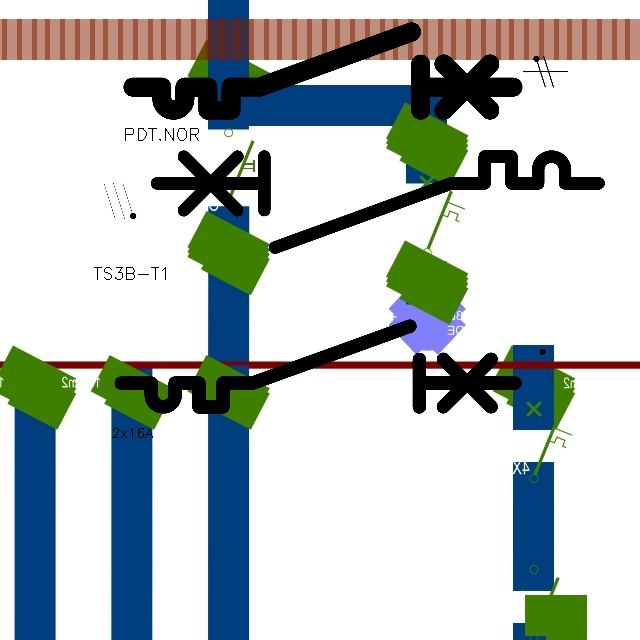interruptor_termomagnetico: (145, 145, 610, 259), (111, 316, 525, 417), (123, 22, 523, 120)
